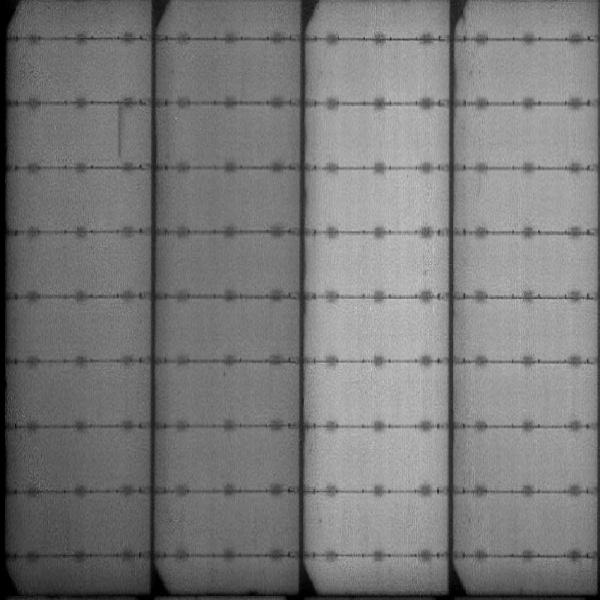scratch: (113, 106, 125, 160)
